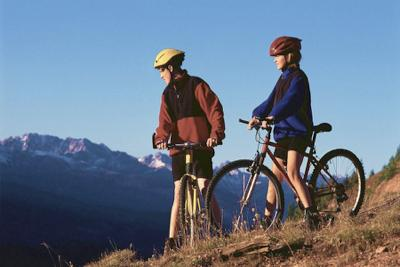With Helmet: (153, 44, 186, 85), (270, 33, 304, 71)
